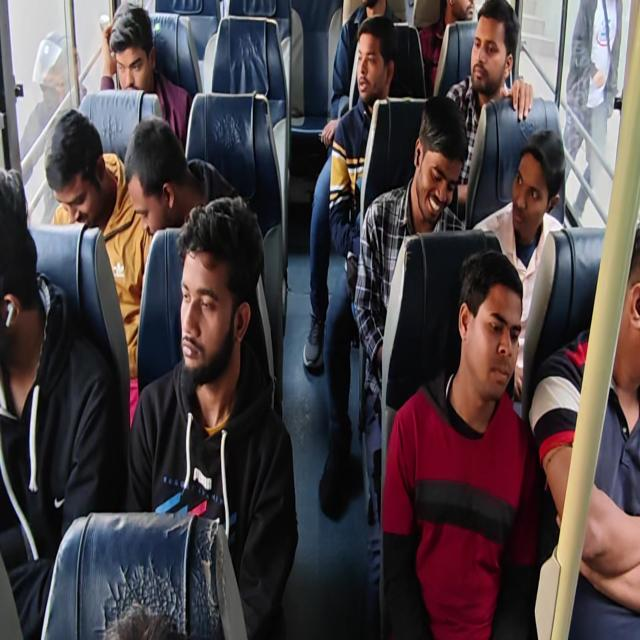person: (1, 1, 638, 638), (126, 195, 299, 638), (380, 248, 544, 638), (0, 167, 124, 638), (352, 93, 468, 524), (528, 222, 639, 638), (122, 114, 274, 403), (318, 14, 398, 521), (44, 108, 152, 429), (472, 128, 566, 402), (444, 0, 533, 218), (123, 114, 241, 237), (561, 0, 622, 225), (100, 4, 192, 152), (19, 30, 86, 224), (322, 0, 399, 148), (418, 0, 476, 95)
